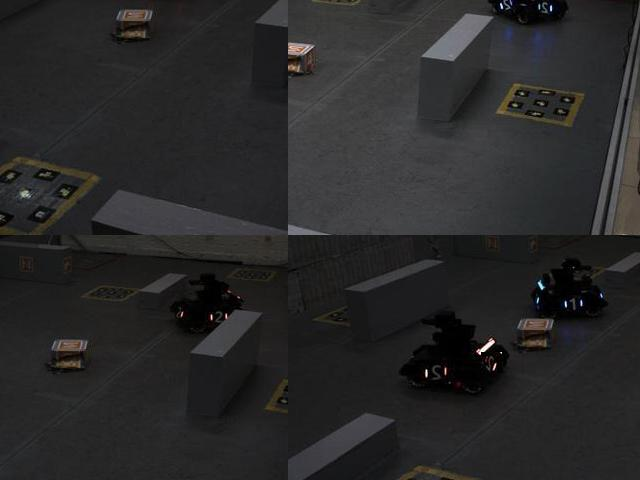armor: (422, 360, 454, 385), (207, 305, 231, 326), (481, 352, 503, 374), (561, 294, 585, 314), (536, 1, 557, 19), (497, 0, 517, 16)
